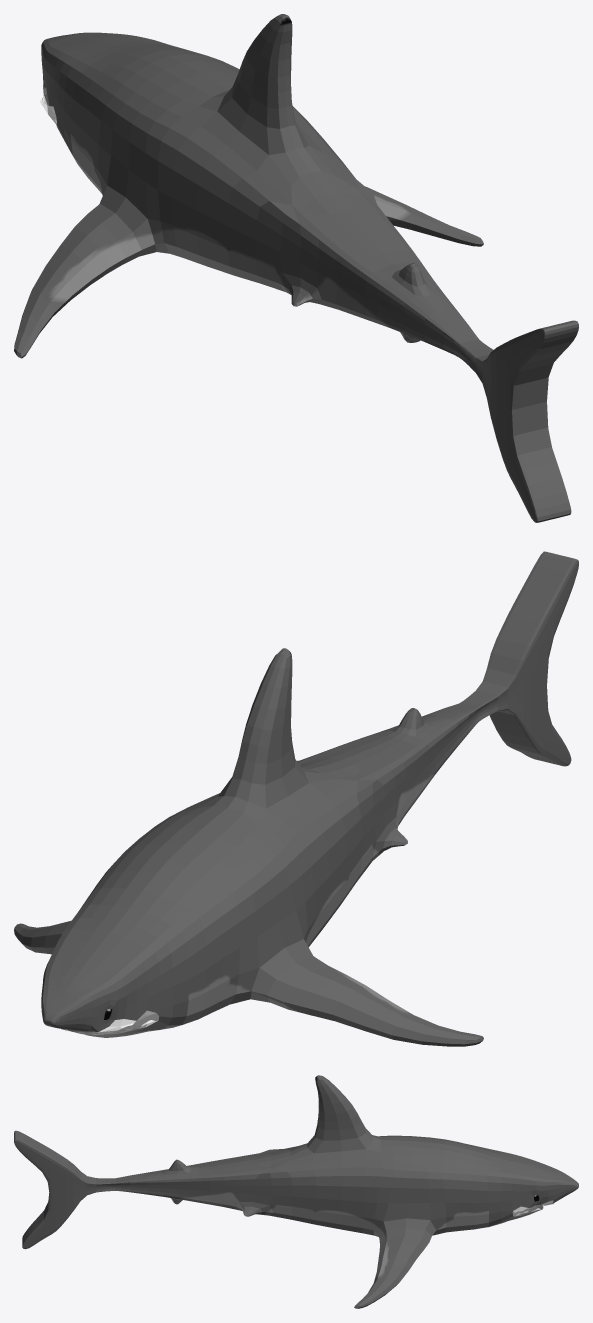
The model's file is Shark.glb.
3 views of the same model, one above another, from view 1: azimuth 30°, elevation 25°; view 2: azimuth 150°, elevation 25°; view 3: azimuth 270°, elevation 25° (orthographic). The views are drawn at different scales.
Parts seen in each view (by area): view 1: Shark001; view 2: Shark001; view 3: Shark001.
Part boxes in pixels (left/top/right/bottom): Shark001: left=14, top=14, right=578, bottom=522; Shark001: left=14, top=551, right=578, bottom=1046; Shark001: left=14, top=1075, right=578, bottom=1308.
Size of the model in its own units: 1.56 by 0.9996 by 2.98.
1 material, 1 textured.
